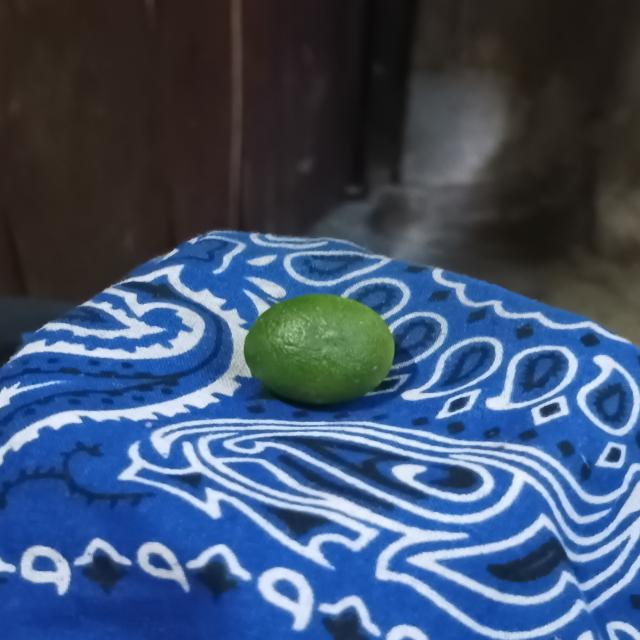heathy: (236, 297, 404, 413)
